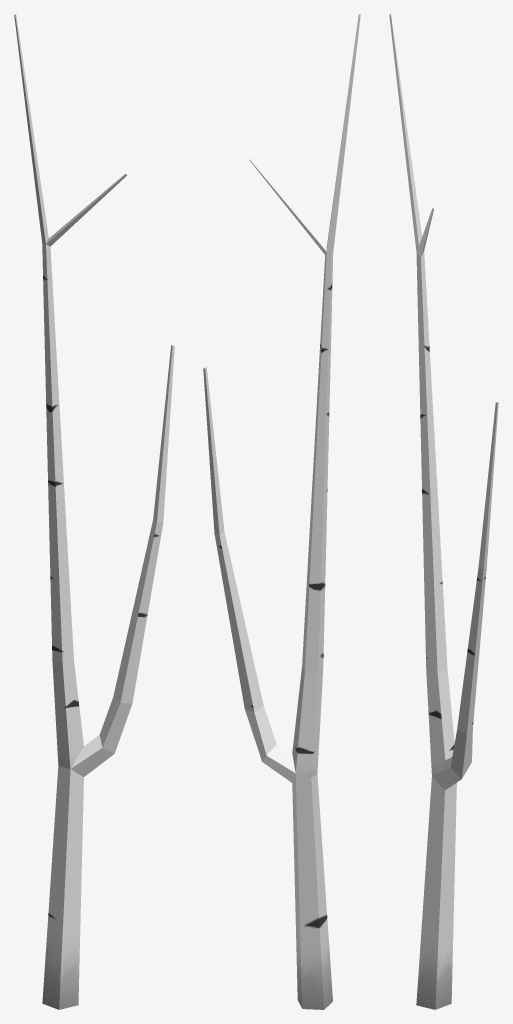
Rendered from Birch_Tree_NoLeaves_m_Snow_01_LOD.fbx.
3 renders of one model, left to right at view 1: azimuth 30°, elevation 25°; view 2: azimuth 210°, elevation 25°; view 3: azimuth 330°, elevation 25°, orthographic. The views are drawn at different scales.
Visible parts, largest first — view 1: Birch_Tree_NoLeaves_m_Snow_01_LOD0; view 2: Birch_Tree_NoLeaves_m_Snow_01_LOD0; view 3: Birch_Tree_NoLeaves_m_Snow_01_LOD0.
Part boxes in pixels (bbox=[...]): Birch_Tree_NoLeaves_m_Snow_01_LOD0: bbox=[14, 14, 174, 1009]; Birch_Tree_NoLeaves_m_Snow_01_LOD0: bbox=[203, 14, 360, 1009]; Birch_Tree_NoLeaves_m_Snow_01_LOD0: bbox=[389, 14, 498, 1009].
Size of what is drawn, in the model's own units: 119 by 841 by 65.17.
